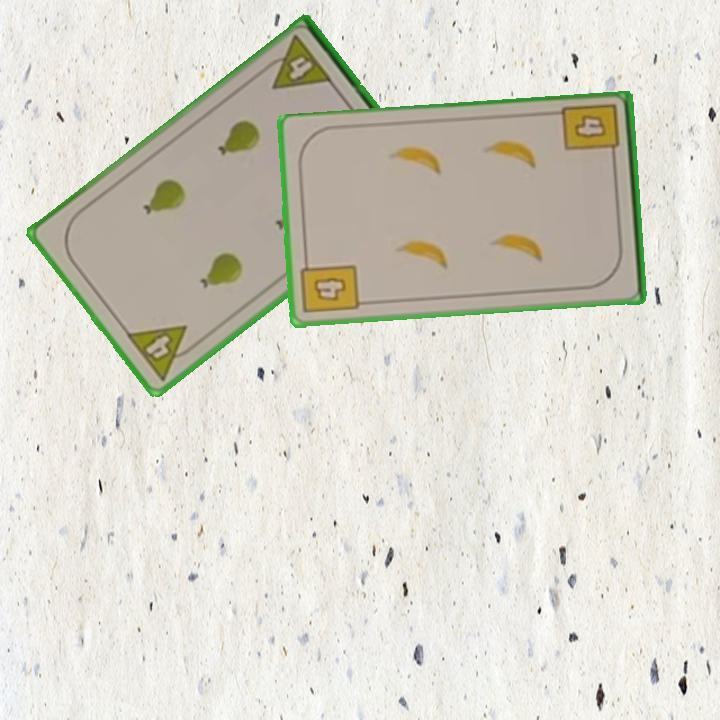4b: (559, 101, 623, 166), (298, 254, 362, 316)
4p: (122, 321, 202, 384), (258, 32, 336, 93)
